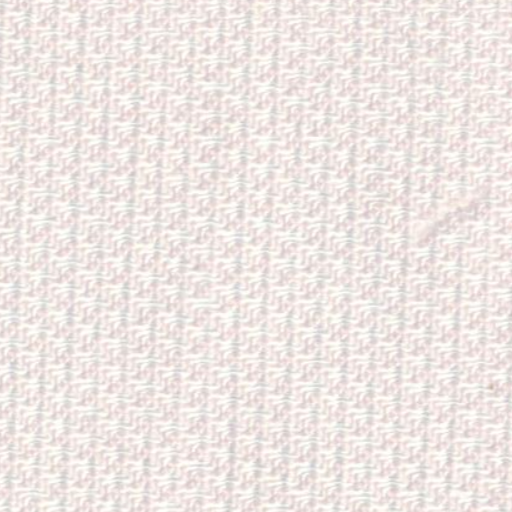DuanSha: (414, 152, 484, 270)
